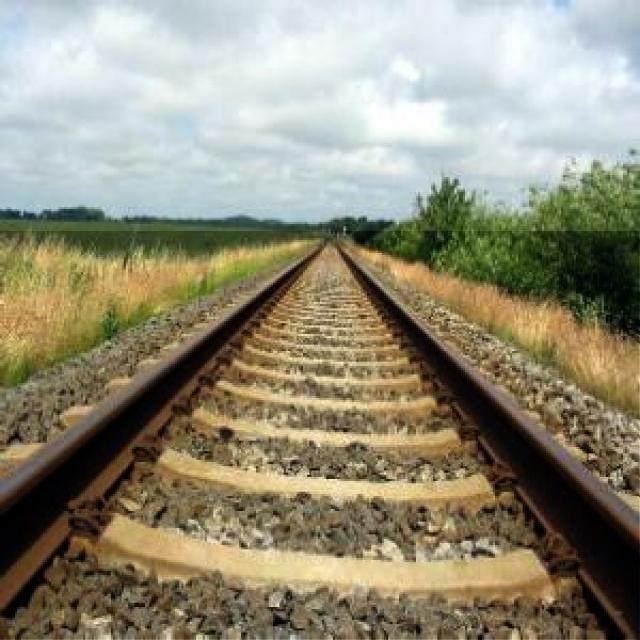rail: (1, 233, 640, 640)
